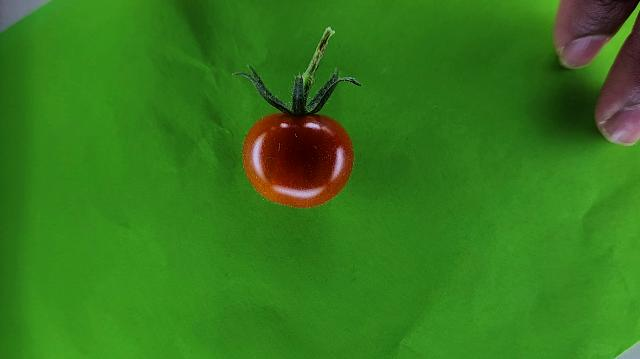Fully Grown: (241, 112, 356, 210)
